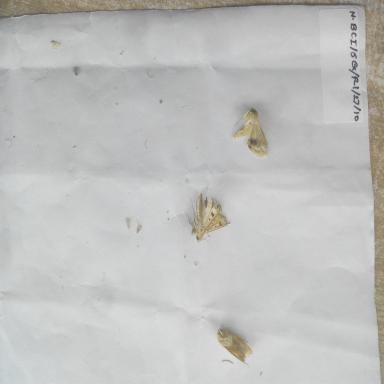abw: (183, 189, 232, 249), (230, 101, 271, 162), (214, 324, 257, 368)
